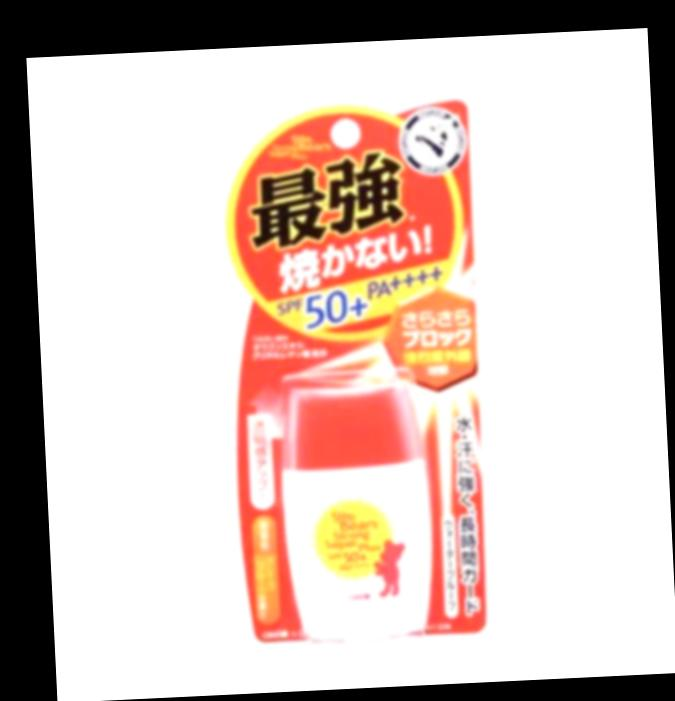cosmetic: (279, 381, 437, 650)
